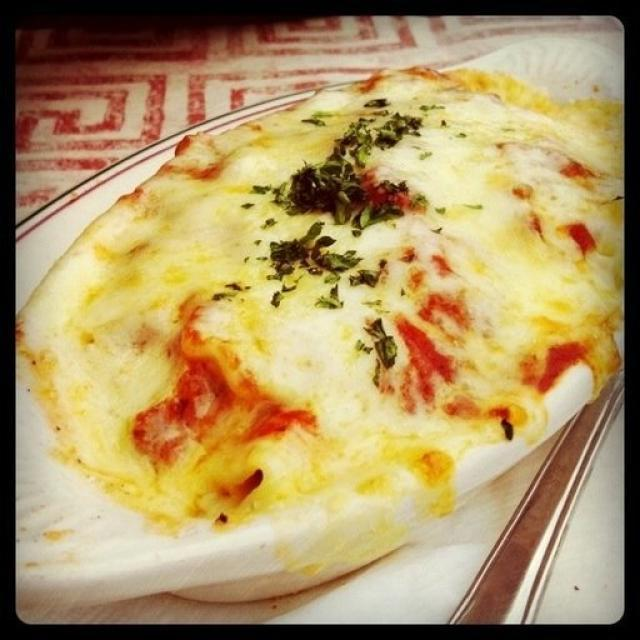Lasagna: (55, 105, 627, 520)
